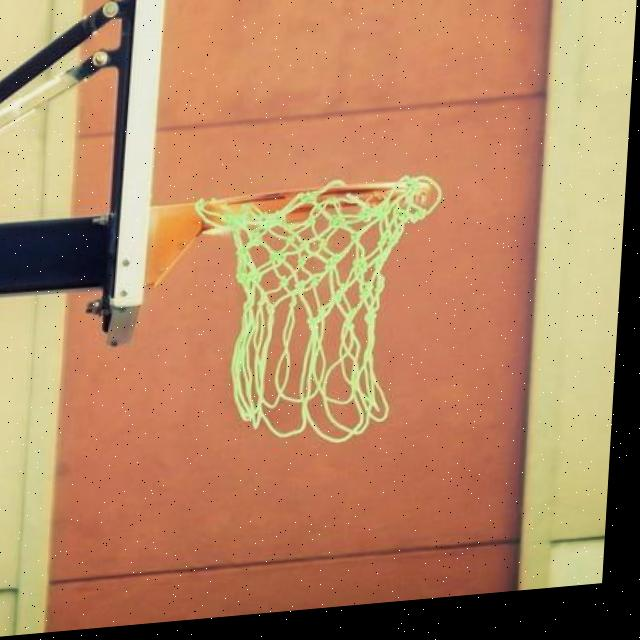hoop: (182, 143, 437, 470)
